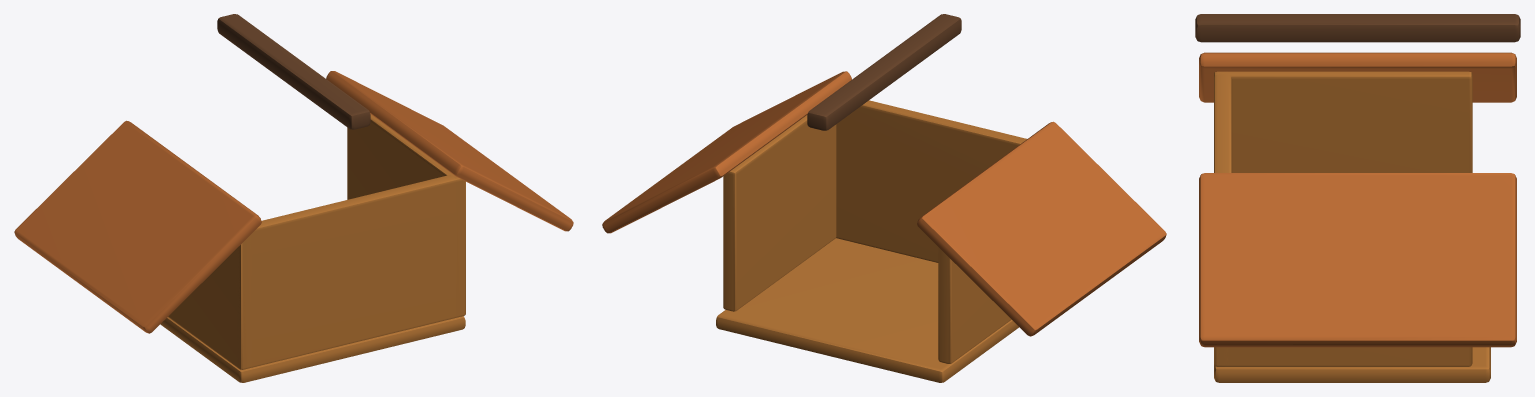
File: prop_shelter.glb
The picture shows the model from 3 angles, left to right: view 1: azimuth 30°, elevation 25°; view 2: azimuth 150°, elevation 25°; view 3: azimuth 270°, elevation 25°; orthographic projection. The views are drawn at different scales.
Parts seen in each view (by area): view 1: sh_wall_b, sh_roof_l, sh_roof_r, sh_wall_r, sh_wall_l, sh_ridge, sh_floor; view 2: sh_roof_l, sh_floor, sh_wall_b, sh_wall_r, sh_roof_r, sh_ridge, sh_wall_l; view 3: sh_roof_r, sh_wall_l, sh_ridge, sh_roof_l, sh_wall_r, sh_floor, sh_wall_b.
Part boxes in pixels (x1,y1,x2,y2): sh_wall_b: [235, 175, 464, 369]; sh_roof_l: [14, 120, 261, 333]; sh_roof_r: [326, 71, 573, 231]; sh_wall_r: [347, 114, 465, 317]; sh_wall_l: [168, 234, 251, 369]; sh_ridge: [217, 14, 370, 129]; sh_floor: [160, 316, 465, 382]; sh_roof_l: [917, 121, 1166, 336]; sh_floor: [716, 238, 1018, 382]; sh_wall_b: [836, 100, 1026, 262]; sh_wall_r: [723, 115, 836, 311]; sh_roof_r: [602, 71, 851, 233]; sh_ridge: [807, 14, 961, 130]; sh_wall_l: [938, 247, 1011, 363]; sh_roof_r: [1199, 173, 1516, 347]; sh_wall_l: [1214, 71, 1472, 172]; sh_ridge: [1195, 14, 1520, 42]; sh_roof_l: [1199, 52, 1516, 102]; sh_wall_r: [1214, 347, 1472, 366]; sh_floor: [1214, 347, 1490, 382]; sh_wall_b: [1214, 71, 1232, 366].
Bounding box in the file's own units: 3.23 × 1.8 × 1.76.
